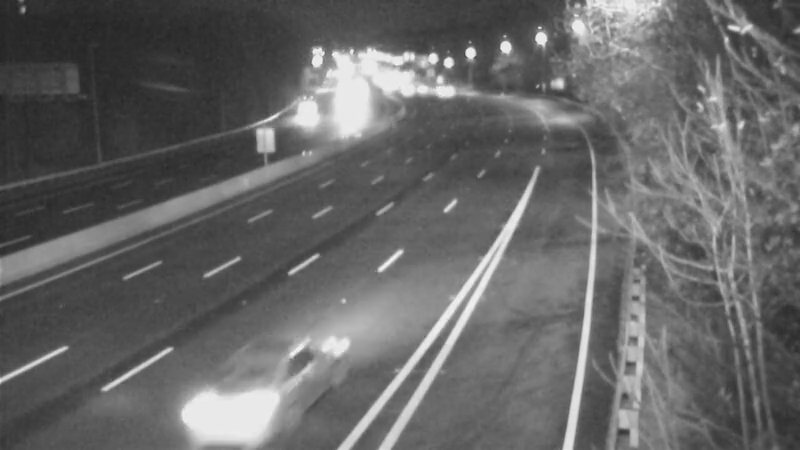vehicle: (179, 355, 289, 450), (423, 58, 473, 108), (276, 84, 326, 134)
